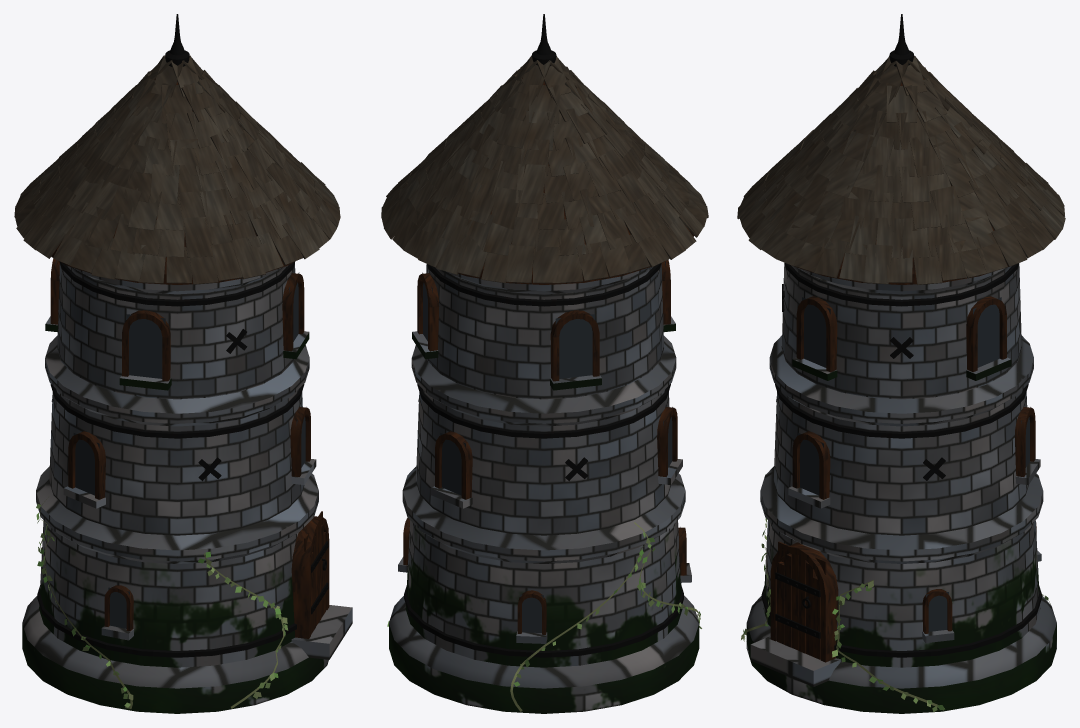
The model's file is watchtower.glb.
3 views of the same model, side by side, from view 1: azimuth 30°, elevation 25°; view 2: azimuth 150°, elevation 25°; view 3: azimuth 270°, elevation 25° (orthographic).
Visible parts, largest first — view 1: Watchtower_Stone, Watchtower_RoofShingles, Watchtower_Woodwork, Watchtower_Ironwork, Watchtower_StoneTrim, Watchtower_Glass, Watchtower_Ivy; view 2: Watchtower_Stone, Watchtower_RoofShingles, Watchtower_Ironwork, Watchtower_Woodwork, Watchtower_Glass, Watchtower_StoneTrim, Watchtower_Ivy; view 3: Watchtower_Stone, Watchtower_RoofShingles, Watchtower_Woodwork, Watchtower_Ironwork, Watchtower_StoneTrim, Watchtower_Glass, Watchtower_Ivy.
Part boxes in pixels (x1,y1,x2,y2): Watchtower_Stone: (22,263,328,713); Watchtower_RoofShingles: (14,55,340,284); Watchtower_Woodwork: (50,258,329,638); Watchtower_Ironwork: (37,14,328,657); Watchtower_StoneTrim: (45,316,352,659); Watchtower_Glass: (55,260,306,628); Watchtower_Ivy: (36,497,288,708); Watchtower_Stone: (389,263,699,713); Watchtower_RoofShingles: (381,55,708,283); Watchtower_Ironwork: (404,14,683,657); Watchtower_Woodwork: (403,260,686,634); Watchtower_Glass: (407,261,682,632); Watchtower_StoneTrim: (398,316,691,643); Watchtower_Ivy: (387,522,701,711); Watchtower_Stone: (746,263,1056,713); Watchtower_RoofShingles: (737,55,1065,284); Watchtower_Woodwork: (770,296,1036,662); Watchtower_Ironwork: (761,14,1041,657); Watchtower_StoneTrim: (750,357,1041,686); Watchtower_Glass: (798,297,1030,631); Watchtower_Ivy: (741,474,1050,712).
Size of the model in its own units: 6.45 by 13.75 by 6.46.
6 materials, 4 textured.
